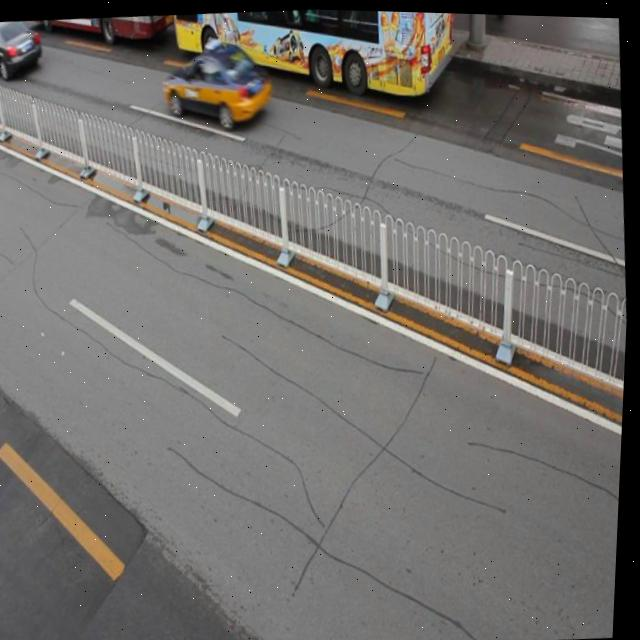car: (160, 36, 273, 133), (0, 19, 44, 79)
van: (168, 4, 458, 120), (17, 10, 178, 55)
